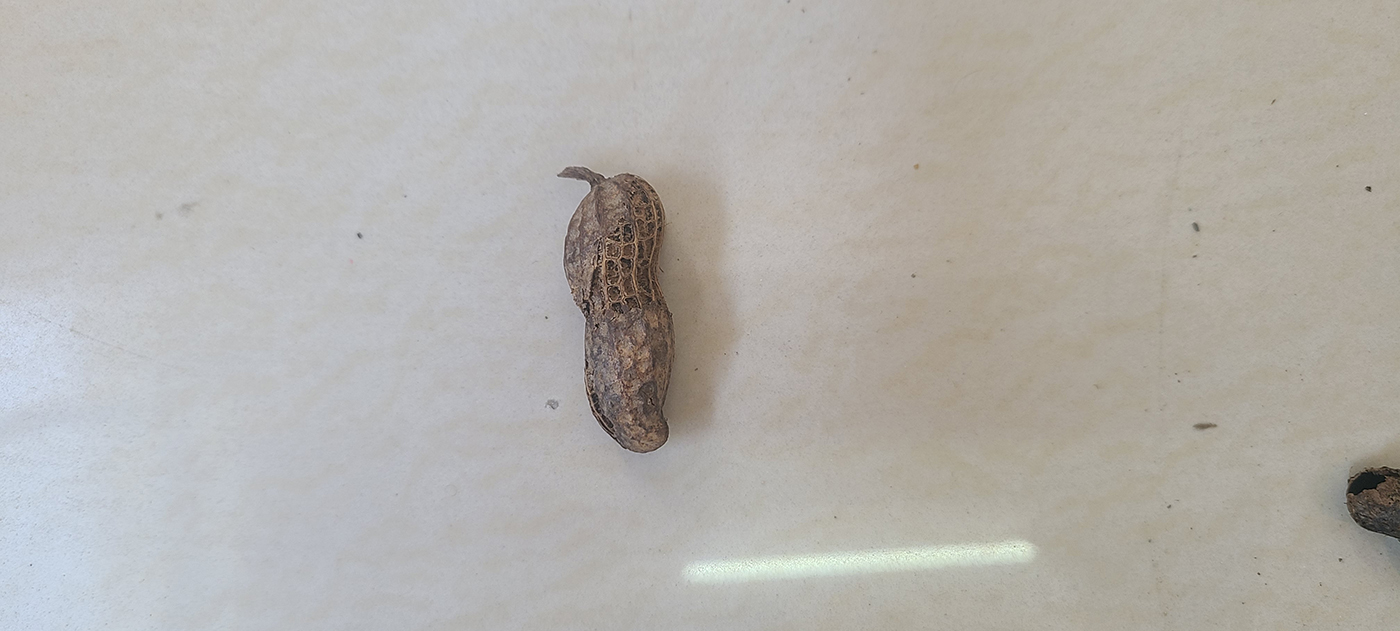l: (561, 171, 677, 453)
